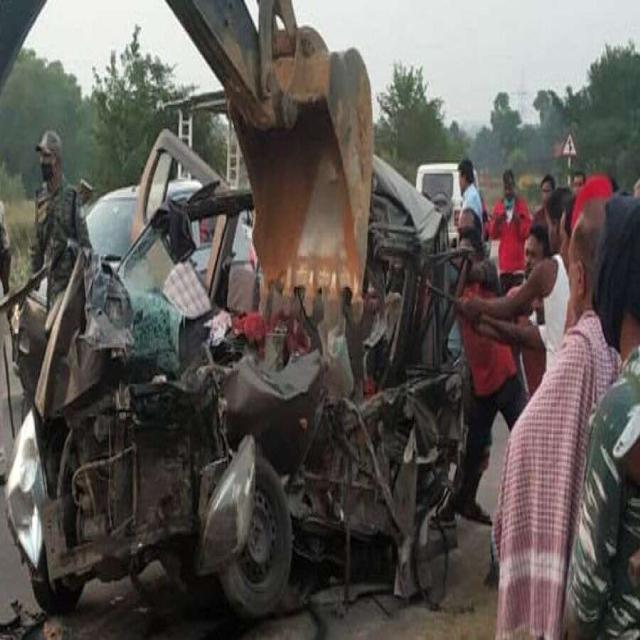accident: (6, 130, 468, 619)
